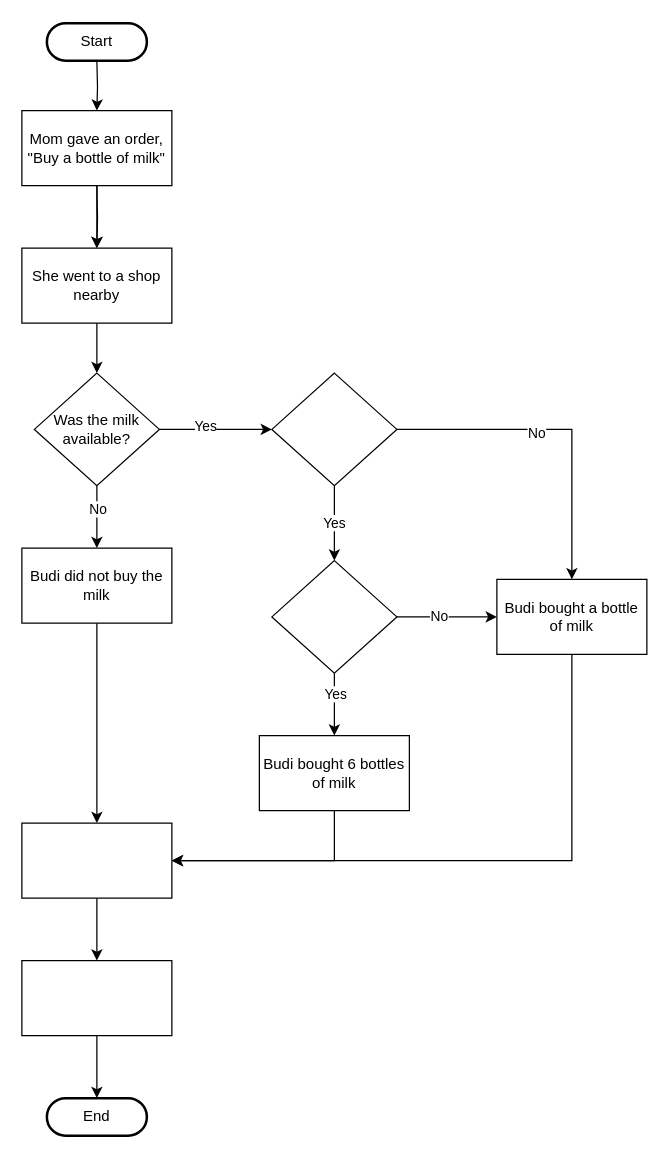
Some shapes in this 669 by 1158 pixel diagram are drawn without their labels. Each missing label, with the centre of its shape:
"Budi went back home" belongs at point 96,860.
"Did they have eggs?" belongs at point 334,429.
"Son gave the groceries to the mom" belongs at point 96,997.
"Was the available milk >= 6?" belongs at point 334,616.
